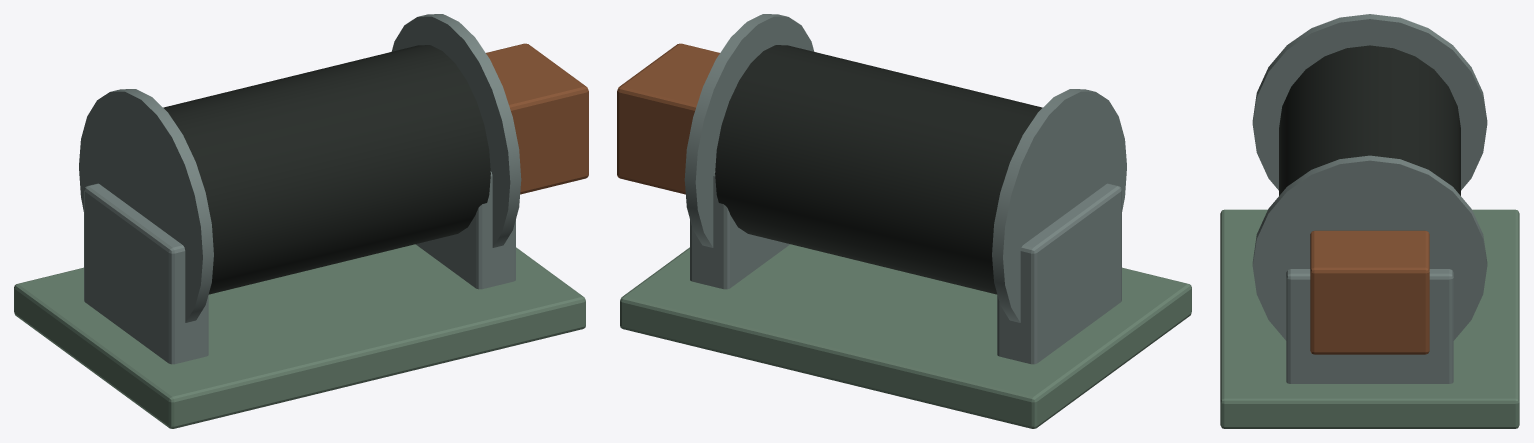
File: forest_winch.glb
3 views of the same model, side by side, from view 1: azimuth 30°, elevation 25°; view 2: azimuth 150°, elevation 25°; view 3: azimuth 270°, elevation 25° (orthographic). The views are drawn at different scales.
Visible parts, largest first — view 1: forest_winch; view 2: forest_winch; view 3: forest_winch.
Boxes of the visible parts, x1=… form: forest_winch: x1=14, y1=14, x2=588, y2=428; forest_winch: x1=617, y1=14, x2=1191, y2=428; forest_winch: x1=1220, y1=14, x2=1519, y2=428.
Size of the model in its own units: 2.13 by 1.14 by 1.25.
